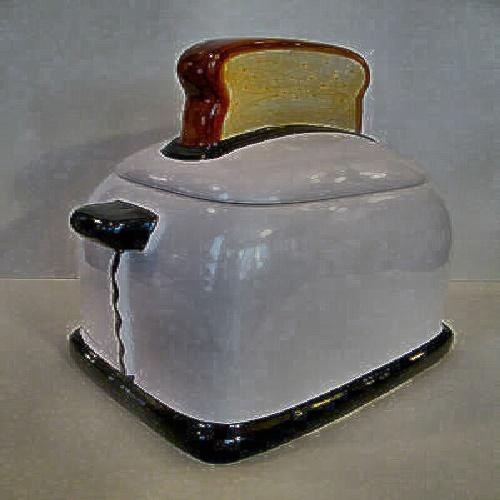toaster: (71, 34, 447, 426)
